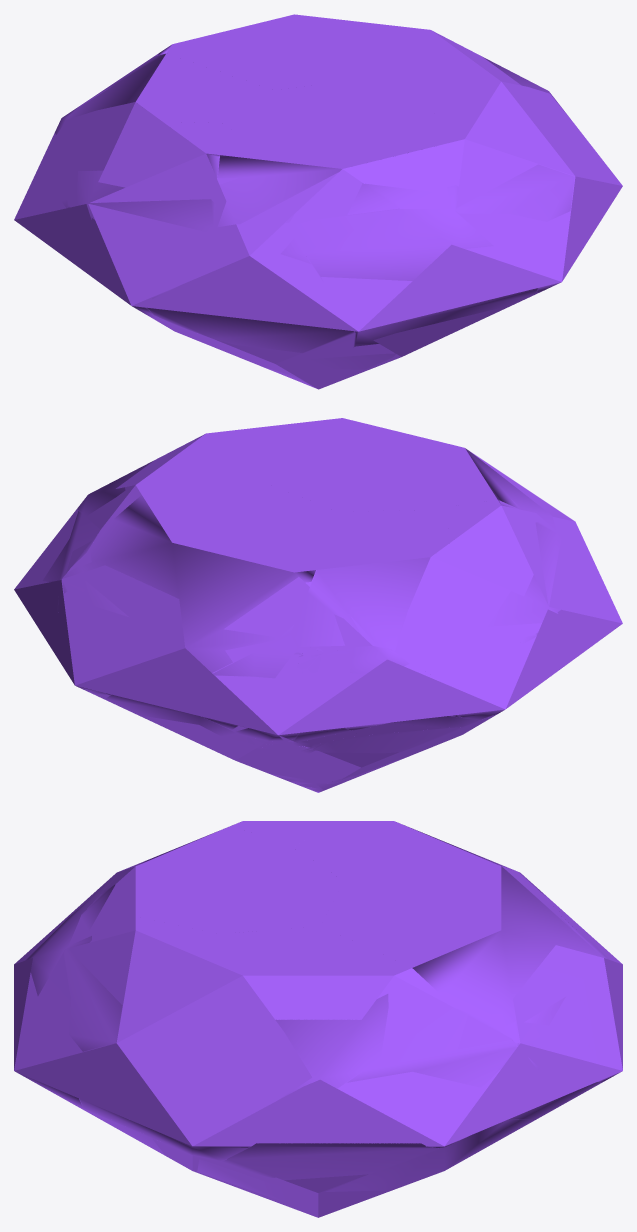
File: crystal.glb
3 renders of one model, top to bottom at view 1: azimuth 30°, elevation 25°; view 2: azimuth 150°, elevation 25°; view 3: azimuth 270°, elevation 25°, orthographic. The views are drawn at different scales.
Parts seen in each view (by area): view 1: Ruby, Ruby.001_cell.005, Ruby.001_cell.021, Ruby.001_cell.024, Ruby.001_cell, Ruby.001_cell.016, Ruby.001_cell.020, Ruby.001_cell.004, Ruby.001_cell.025; view 2: Ruby, Ruby.001_cell.024, Ruby.001_cell.005, Ruby.001_cell, Ruby.001_cell.016, Ruby.001_cell.023_cell.028, Ruby.001_cell.001, Ruby.001_cell.006, Ruby.001_cell.002_cell.003, Ruby.001_cell.012, Ruby.001_cell.023_cell.019, Ruby.001_cell.023_cell.017; view 3: Ruby, Ruby.001_cell.024, Ruby.001_cell.005, Ruby.001_cell.006, Ruby.001_cell.012, Ruby.001_cell, Ruby.001_cell.004, Ruby.001_cell.021, Ruby.001_cell.013, Ruby.001_cell.016, Ruby.001_cell.017.
Boxes of the visible parts, box(x1,y1,x2,y2) form: Ruby: box(14, 27, 622, 389); Ruby.001_cell.005: box(217, 78, 444, 227); Ruby.001_cell.021: box(287, 209, 537, 347); Ruby.001_cell.024: box(158, 14, 407, 90); Ruby.001_cell: box(45, 53, 273, 164); Ruby.001_cell.016: box(58, 122, 233, 321); Ruby.001_cell.020: box(147, 238, 354, 353); Ruby.001_cell.004: box(447, 164, 574, 293); Ruby.001_cell.025: box(307, 353, 396, 369); Ruby: box(14, 418, 622, 791); Ruby.001_cell.024: box(80, 483, 337, 737); Ruby.001_cell.005: box(264, 424, 555, 529); Ruby.001_cell: box(294, 510, 460, 675); Ruby.001_cell.016: box(426, 499, 561, 655); Ruby.001_cell.023_cell.028: box(301, 719, 487, 753); Ruby.001_cell.001: box(202, 634, 297, 729); Ruby.001_cell.006: box(42, 511, 100, 613); Ruby.001_cell.002_cell.003: box(350, 646, 420, 674); Ruby.001_cell.012: box(77, 460, 153, 516); Ruby.001_cell.023_cell.019: box(389, 716, 483, 727); Ruby.001_cell.023_cell.017: box(351, 723, 442, 736); Ruby: box(14, 821, 622, 1217); Ruby.001_cell.024: box(321, 859, 608, 1025); Ruby.001_cell.005: box(72, 825, 343, 940); Ruby.001_cell.006: box(222, 1007, 539, 1191); Ruby.001_cell.012: box(80, 994, 388, 1160); Ruby.001_cell: box(294, 821, 550, 904); Ruby.001_cell.004: box(15, 936, 122, 1106); Ruby.001_cell.021: box(25, 874, 119, 995); Ruby.001_cell.013: box(77, 1106, 285, 1202); Ruby.001_cell.016: box(232, 821, 334, 847); Ruby.001_cell.017: box(510, 1082, 602, 1119).
Bounding box in the file's own units: 1.85 × 1.07 × 1.85.
